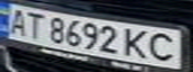2: (96, 22, 124, 56)
6: (63, 18, 84, 47)
8: (42, 15, 66, 45)
9: (78, 20, 100, 52)
A: (0, 6, 33, 36)
C: (145, 29, 184, 63)
K: (121, 26, 154, 60)
T: (21, 10, 48, 39)
